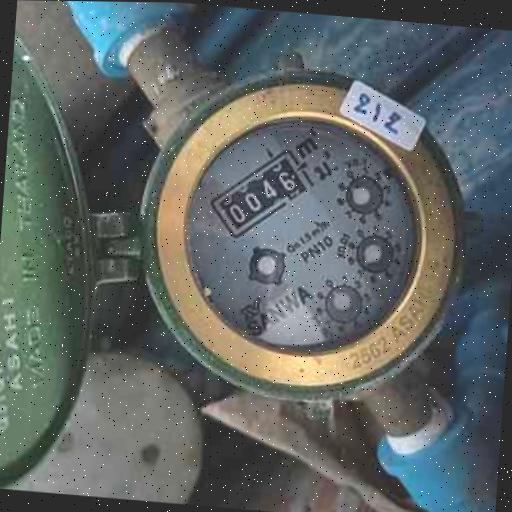0: (217, 191, 254, 231), (233, 180, 270, 220)
4: (249, 167, 289, 208)
6: (266, 156, 309, 203)
border_water_meter_number: (204, 141, 317, 247)
